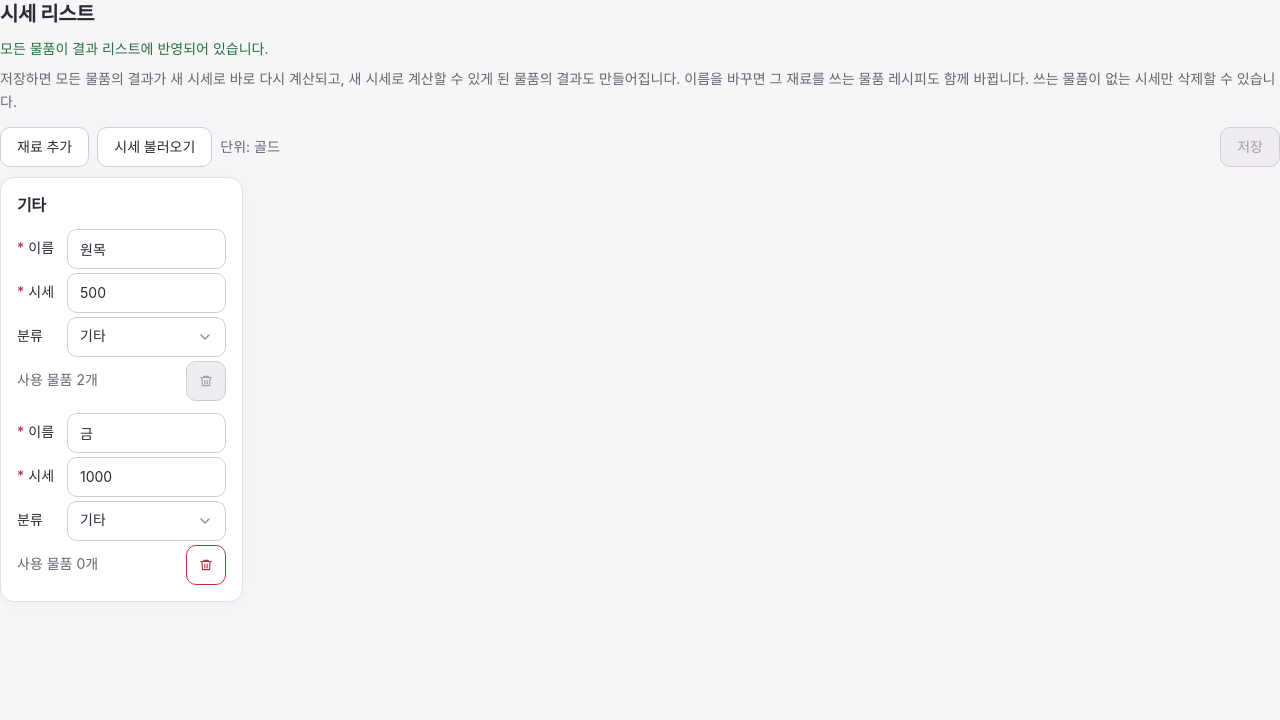
Test: MarketManagePage › 재료 추가에 실패하면 서버 메시지를 보여 주고 모달을 입력과 함께 열어 둔다
Expected: the text "2개" is shown, [76,371,98,388]
Click the button "재료 추가" at point(45, 147), box [0,127,89,167]
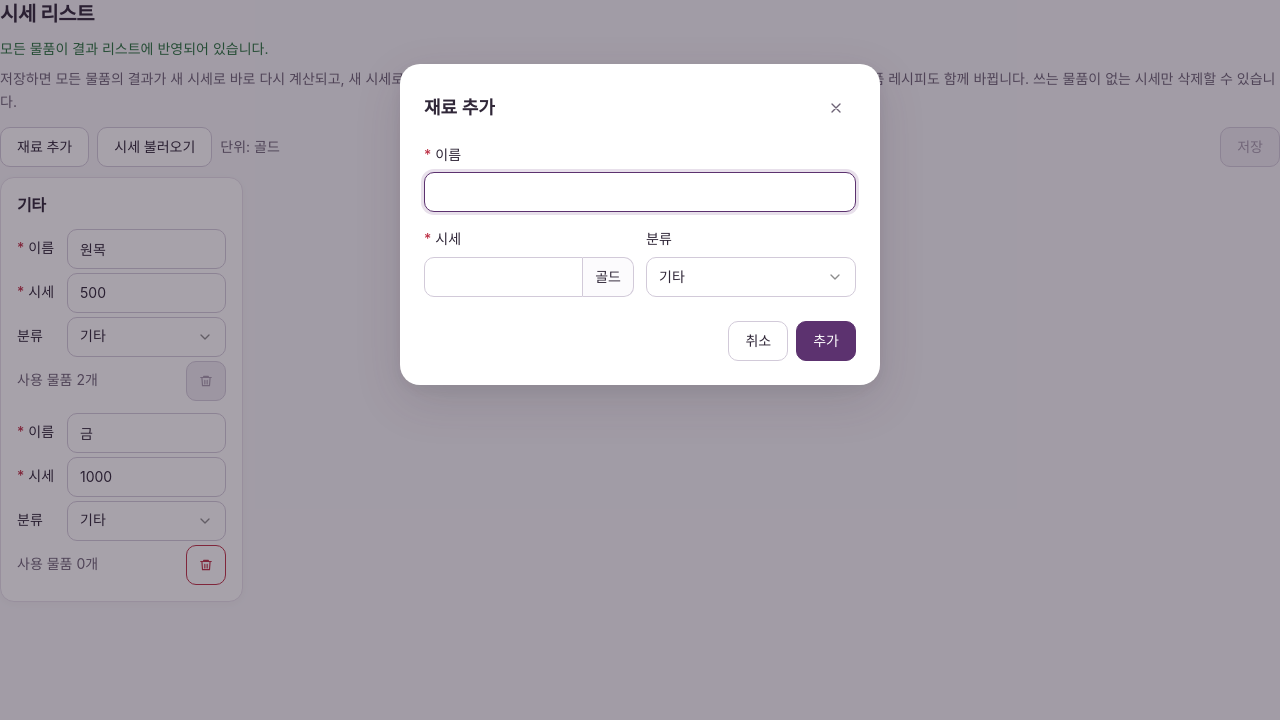
Type "은" into the field labelled "이름" at point(640, 192), box [437,173,843,211]
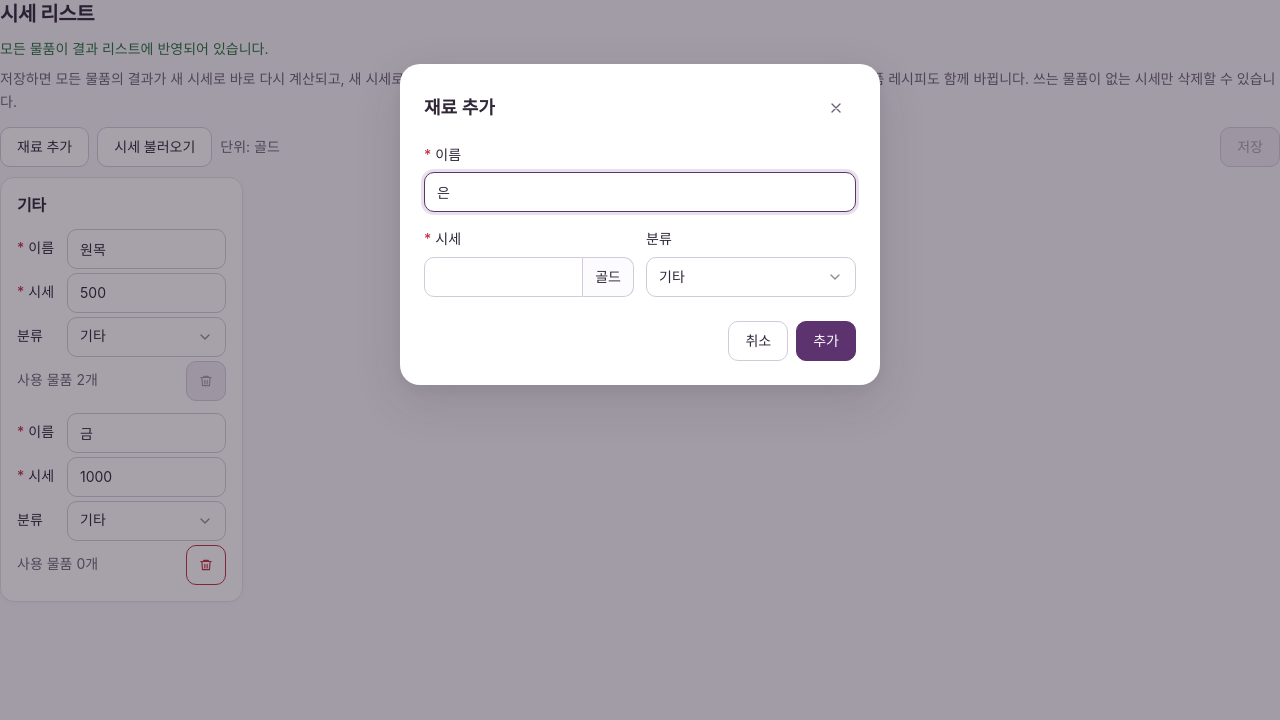
Type "50" into the number field labelled "시세" at point(504, 277), box [437,258,570,296]
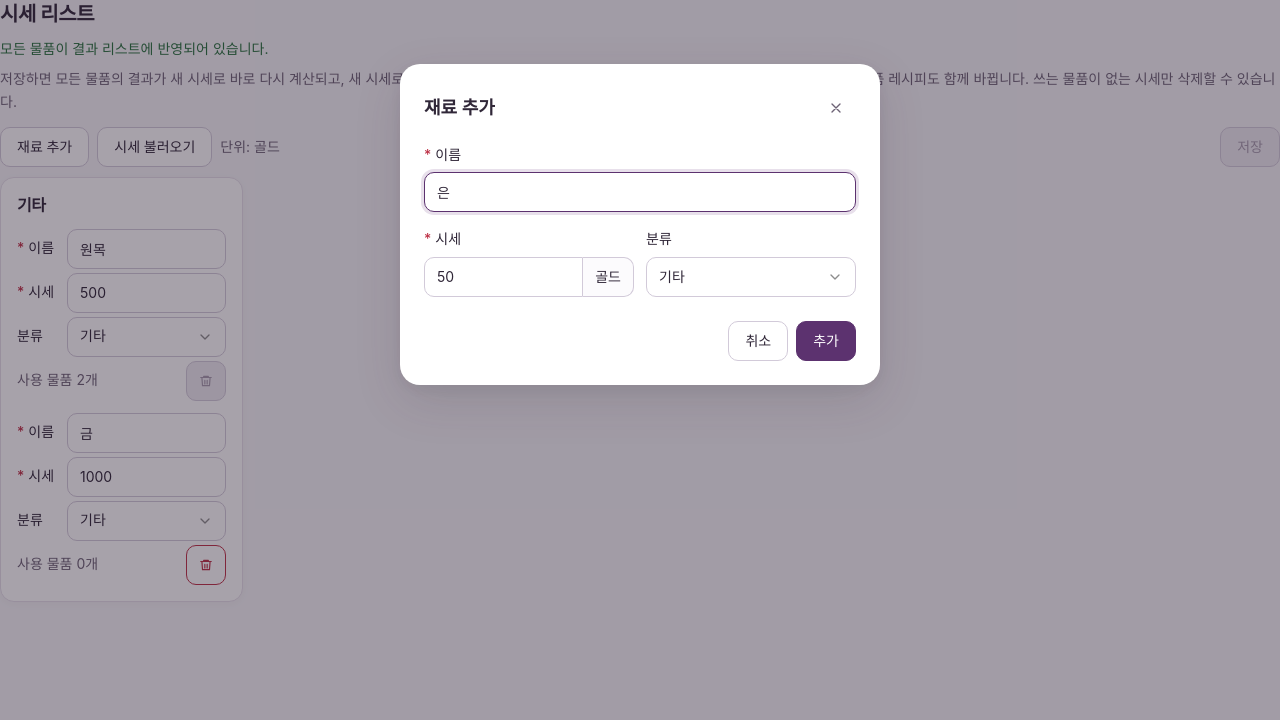
Click the button "추가" at point(826, 341), box [796,321,856,361]
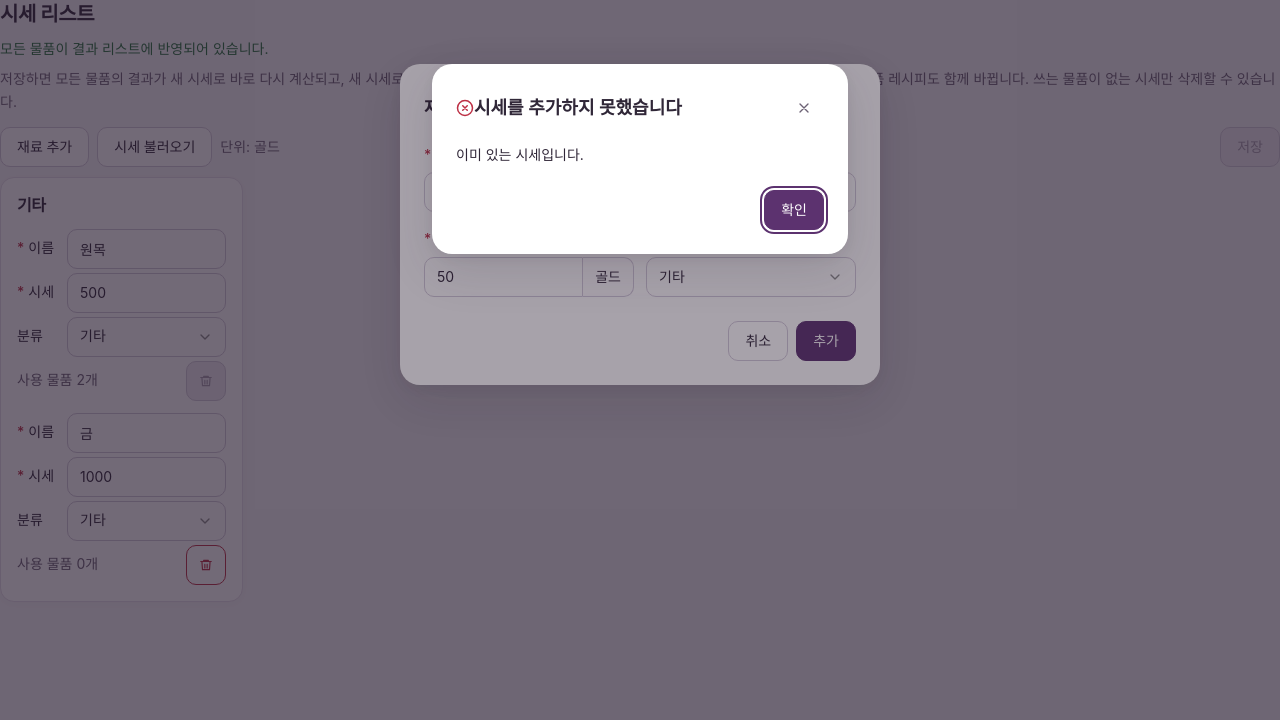
Expected: the dialog "시세를 추가하지 못했습니다" shows "이미 있는 시세입니다.", [456,146,584,163]
